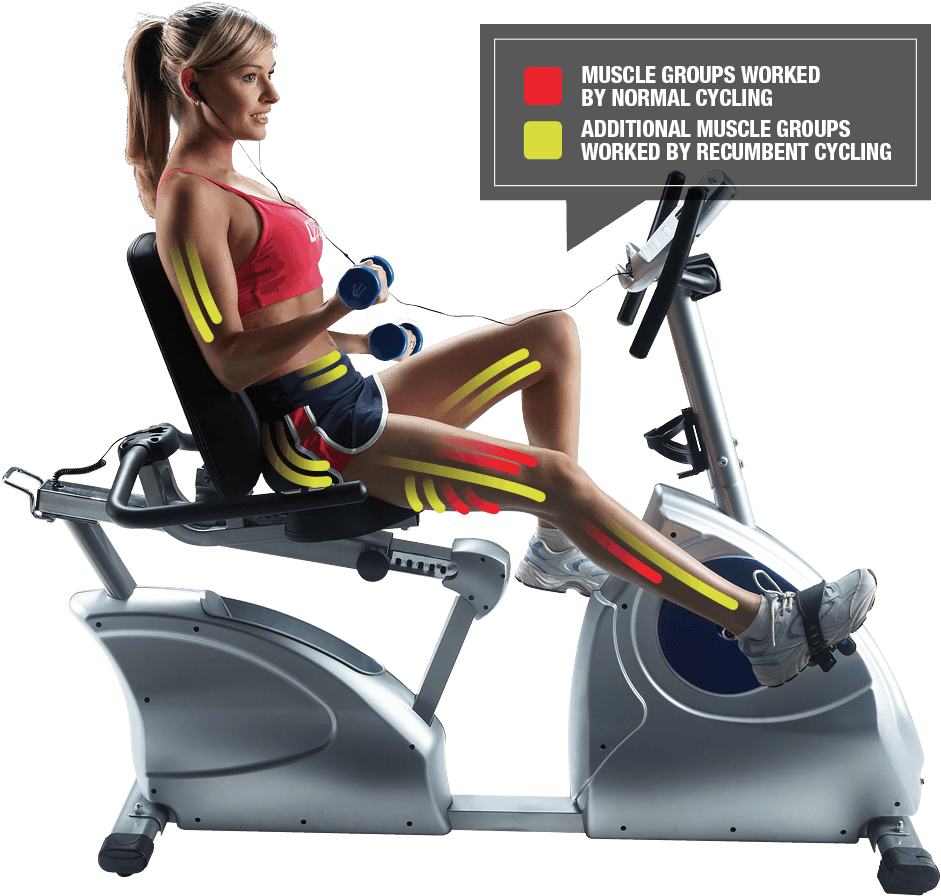gym_bike: (37, 361, 931, 876)
